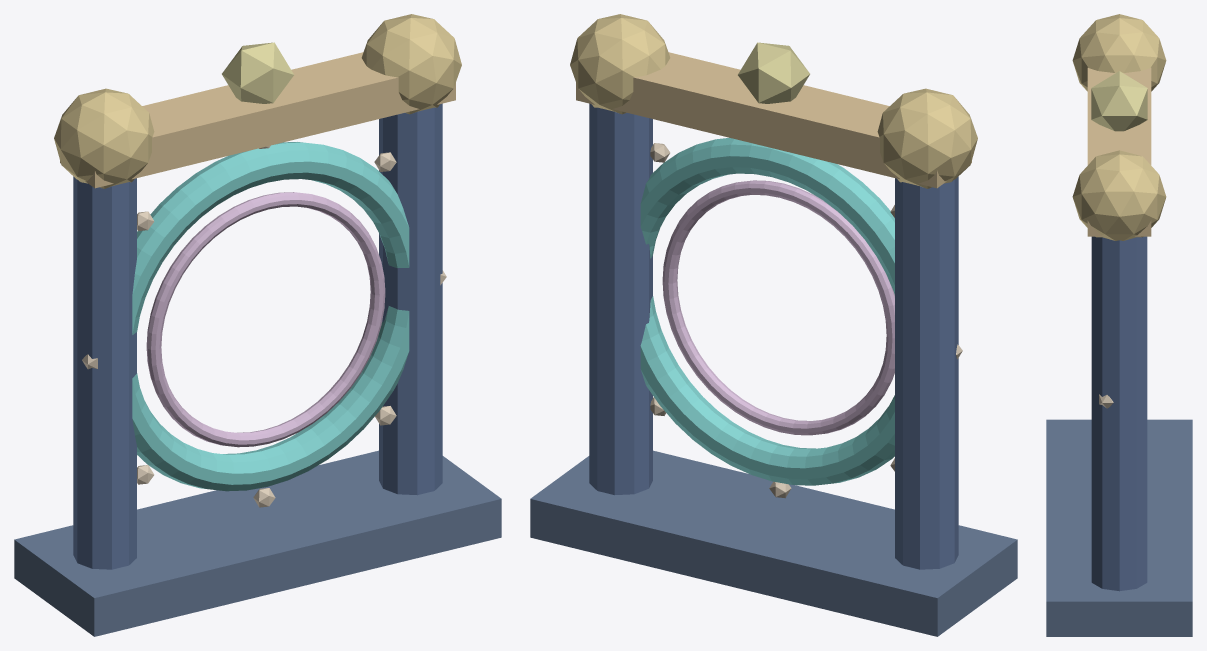
The model's file is prism_portal.glb.
The picture shows the model from 3 angles, left to right: view 1: azimuth 30°, elevation 25°; view 2: azimuth 150°, elevation 25°; view 3: azimuth 270°, elevation 25°; orthographic projection. The views are drawn at different scales.
Parts seen in each view (by area): view 1: portal_base, portal_arc, pillar_-1.65, pillar_1.65, gold_crown, portal_secondary, pillar_cap_-1.65, pillar_cap_1.65, top_star; view 2: portal_base, pillar_-1.65, portal_arc, pillar_1.65, gold_crown, portal_secondary, pillar_cap_-1.65, pillar_cap_1.65, top_star; view 3: portal_base, pillar_1.65, pillar_cap_1.65, pillar_cap_-1.65, gold_crown, top_star.
Boxes of the visible parts, left/top/right/bottom form: portal_base: left=14, top=450, right=501, bottom=636; portal_arc: left=132, top=142, right=409, bottom=491; pillar_-1.65: left=73, top=176, right=136, bottom=569; pillar_1.65: left=379, top=103, right=442, bottom=495; gold_crown: left=60, top=52, right=455, bottom=188; portal_secondary: left=146, top=192, right=385, bottom=447; pillar_cap_-1.65: left=54, top=88, right=154, bottom=188; pillar_cap_1.65: left=361, top=14, right=461, bottom=114; top_star: left=222, top=42, right=293, bottom=103; portal_base: left=530, top=450, right=1017, bottom=636; pillar_-1.65: left=895, top=176, right=958, bottom=569; portal_arc: left=640, top=137, right=894, bottom=485; pillar_1.65: left=589, top=103, right=652, bottom=495; gold_crown: left=576, top=52, right=971, bottom=188; portal_secondary: left=662, top=180, right=894, bottom=435; pillar_cap_-1.65: left=877, top=88, right=977, bottom=188; pillar_cap_1.65: left=570, top=14, right=670, bottom=114; top_star: left=738, top=42, right=809, bottom=103; portal_base: left=1046, top=419, right=1192, bottom=636; pillar_1.65: left=1091, top=236, right=1147, bottom=591; pillar_cap_1.65: left=1072, top=150, right=1166, bottom=240; pillar_cap_-1.65: left=1072, top=14, right=1166, bottom=91; gold_crown: left=1087, top=68, right=1151, bottom=236; top_star: left=1091, top=71, right=1147, bottom=131.
Size of the model in its own units: 4.4 by 5.28 by 1.5.
